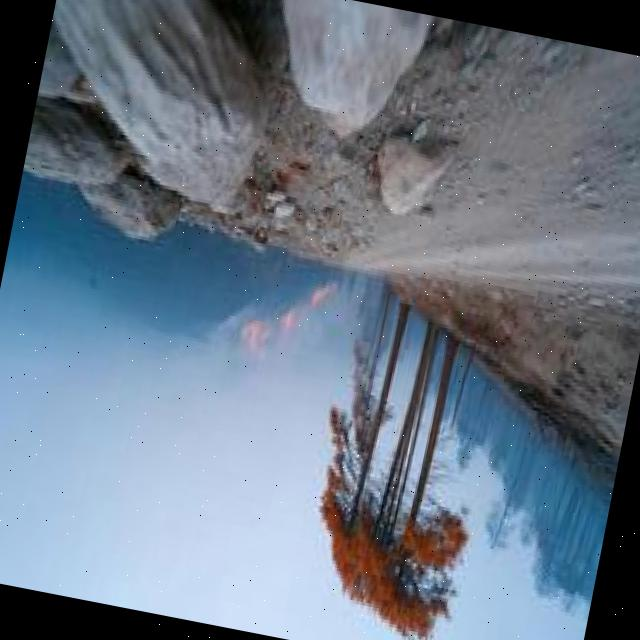road collapse: (5, 0, 621, 370)
